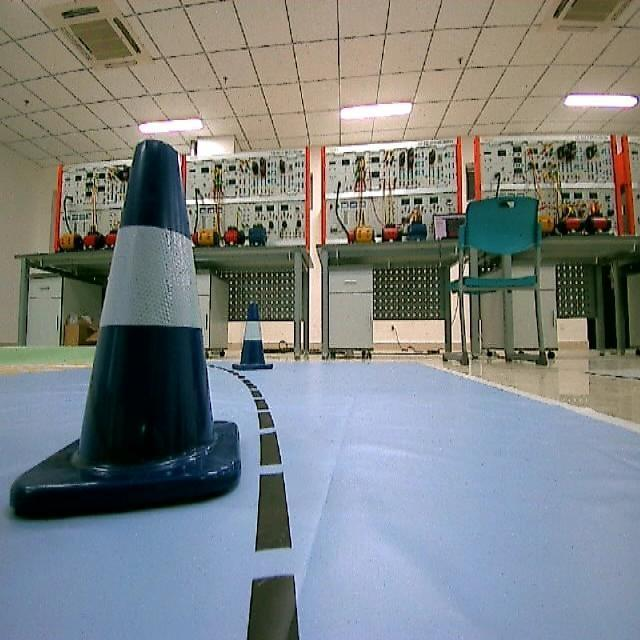obstacle: (1, 135, 245, 526), (220, 300, 280, 374)
